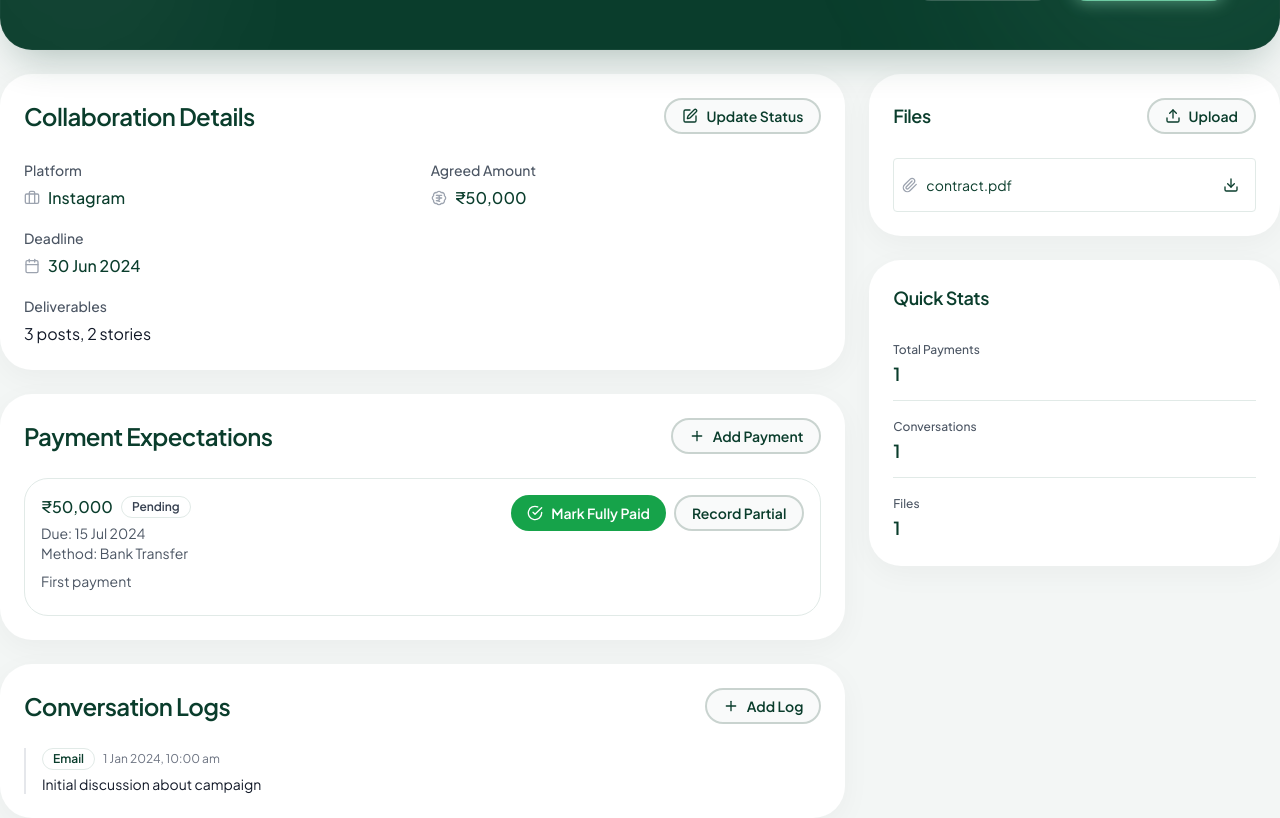
it: CollaborationDetailPage › Conversation Logs › should open conversation log dialog
(page scrolled)
Click the button "Add Log" at (763, 706), box top-left (705, 688), bottom-right (821, 724)
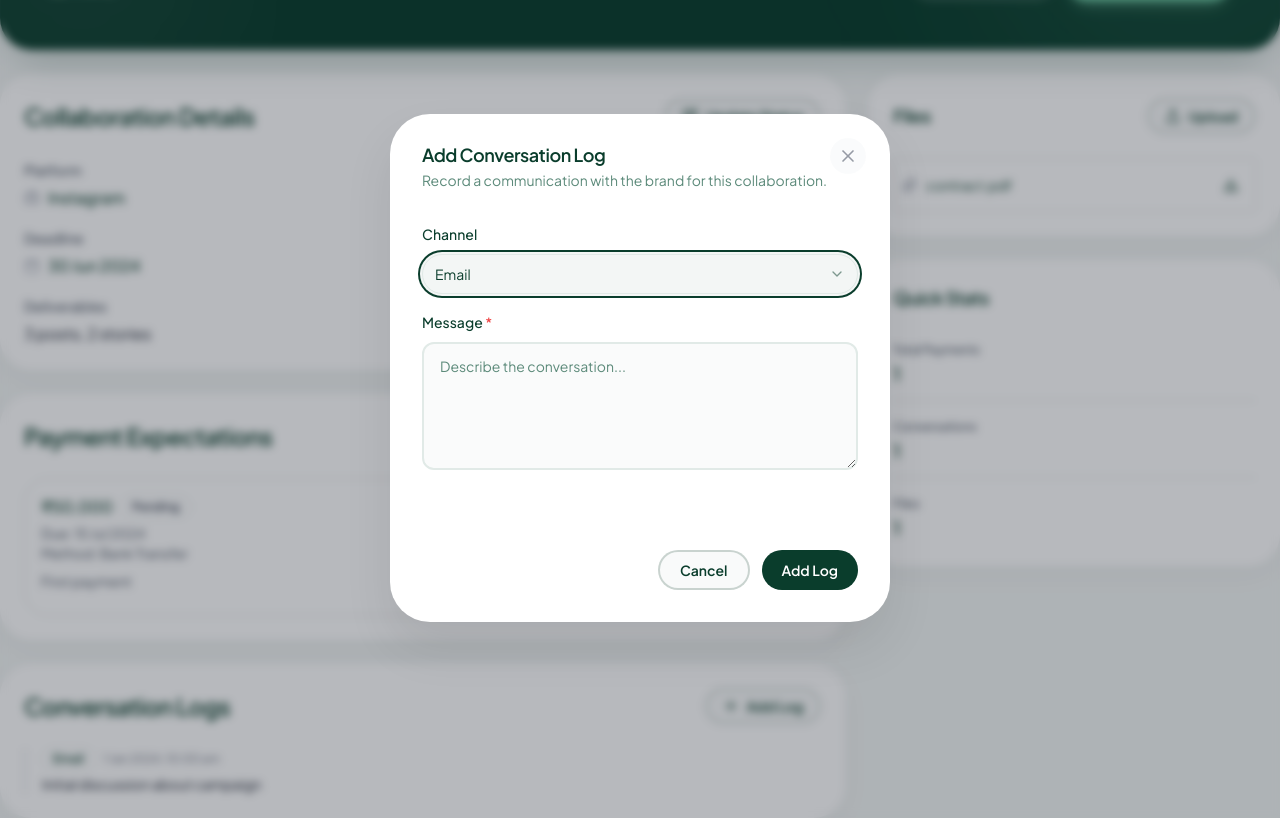
expect the dialog is shown: met, box top-left (390, 114), bottom-right (890, 622)
expect the heading "Add Conversation Log" is shown: met, box top-left (422, 143), bottom-right (605, 166)
